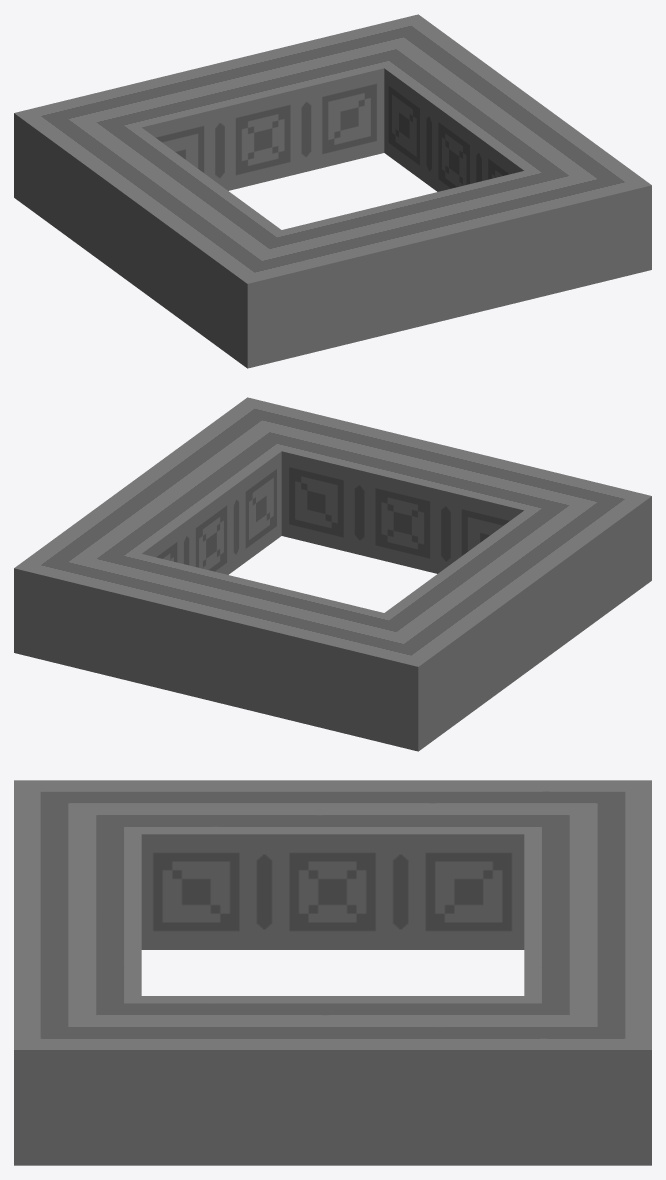
File: Hole_5.fbx
The picture shows the model from 3 angles, top to bottom: view 1: azimuth 30°, elevation 25°; view 2: azimuth 150°, elevation 25°; view 3: azimuth 270°, elevation 25°; orthographic projection. The views are drawn at different scales.
Parts seen in each view (by area): view 1: 평면; view 2: 평면; view 3: 평면.
Boxes of the visible parts, x1,y1,x2,y2 form: 평면: (14, 14, 651, 368); 평면: (14, 397, 651, 751); 평면: (14, 780, 651, 1165).
Bounding box in the file's own units: 500 × 100 × 500.
1 material, 1 textured.
